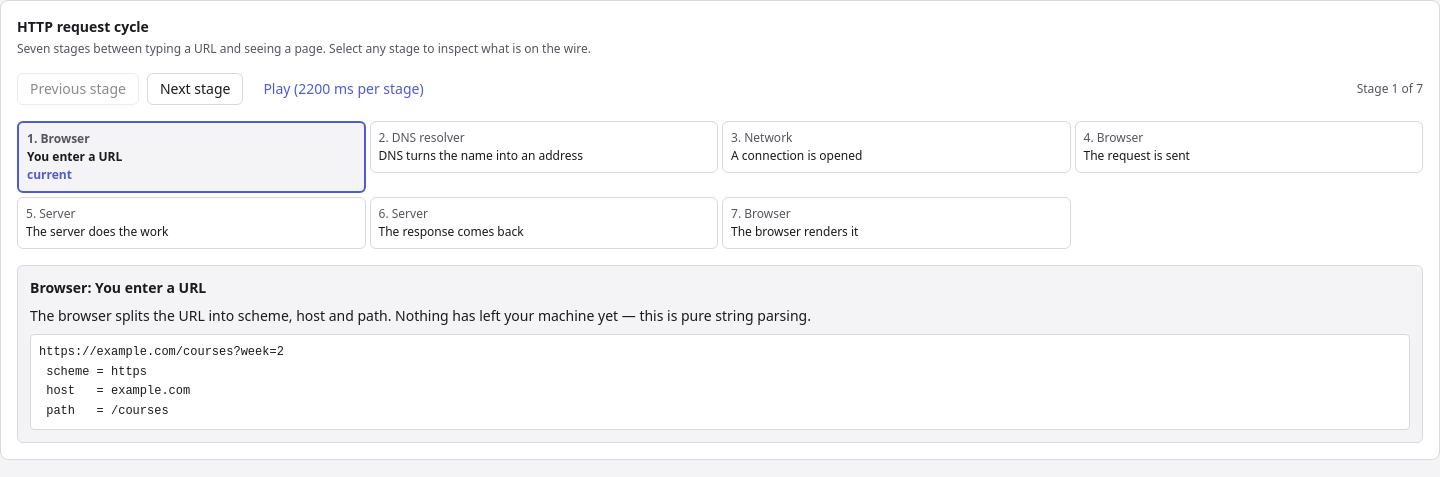
Test: HTTPCycleDiagram › advances with the Next button and updates the inspectable wire detail
Click the button "Next stage": click(195, 89) [147, 73, 243, 105]
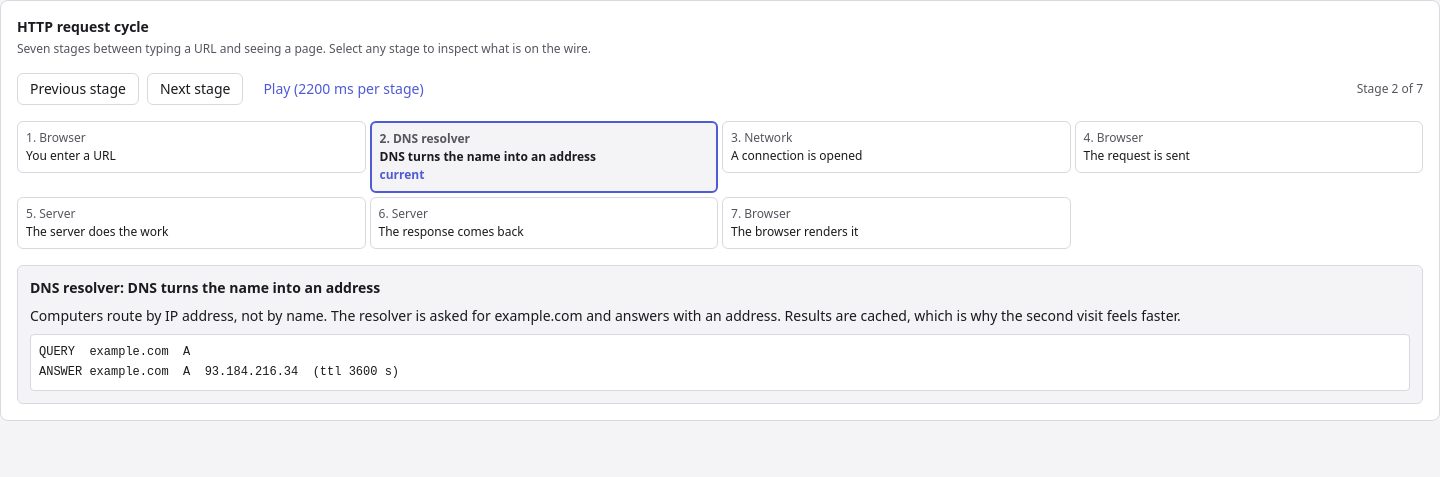
Expected: the element with test id "http-cycle-detail" shows "DNS turns the name into an address", [128, 278, 380, 297]
Expected: the element with test id "http-cycle-wire" shows "93.184.216.34", [39, 345, 399, 378]
